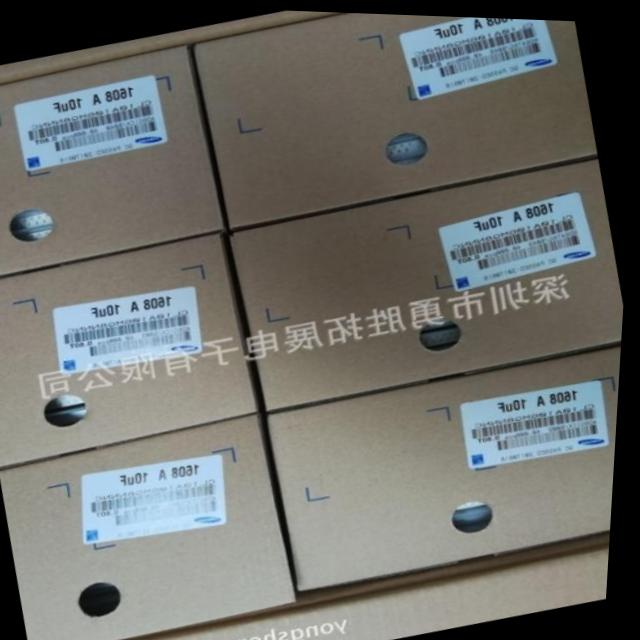box: (233, 153, 627, 410), (267, 336, 625, 593), (188, 10, 599, 227), (5, 413, 302, 640), (0, 233, 267, 470), (0, 42, 225, 276)
